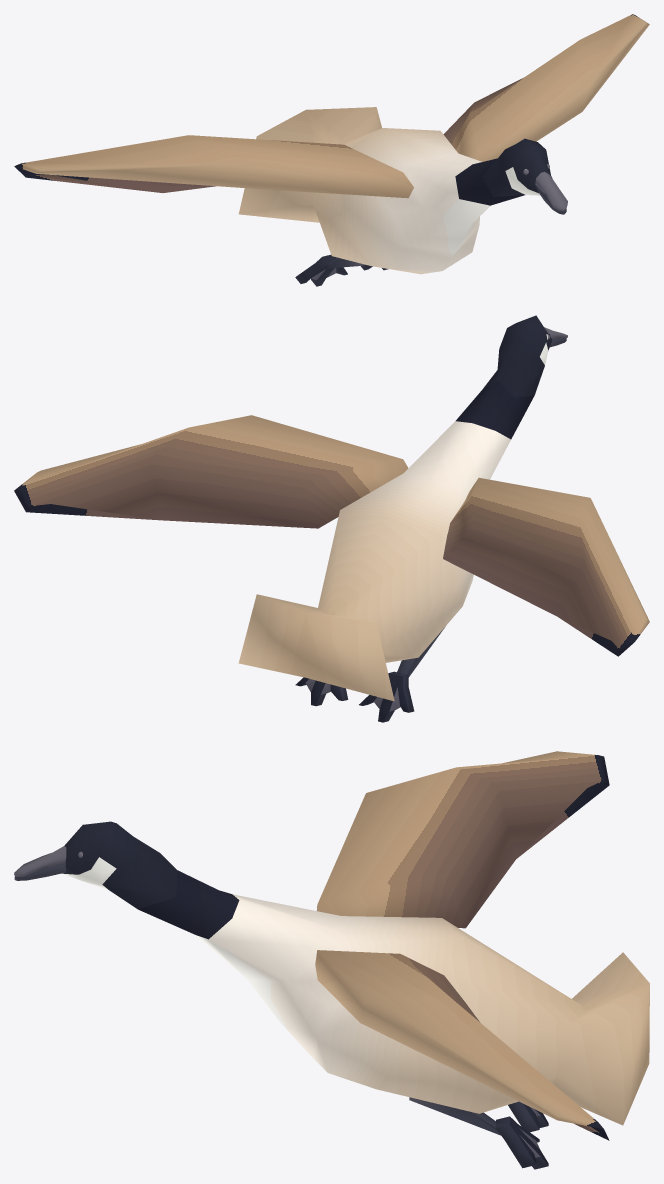
The model's file is 9goose.glb.
3 views of the same model, one above another, from view 1: azimuth 30°, elevation 25°; view 2: azimuth 150°, elevation 25°; view 3: azimuth 270°, elevation 25° (orthographic). The views are drawn at different scales.
Parts seen in each view (by area): view 1: Goose.Fly_0; view 2: Goose.Fly_0; view 3: Goose.Fly_0.
Boxes of the visible parts, x1=… form: Goose.Fly_0: x1=14, y1=14, x2=649, y2=286; Goose.Fly_0: x1=14, y1=315, x2=649, y2=722; Goose.Fly_0: x1=14, y1=751, x2=649, y2=1169.
Bounding box in the file's own units: 1.63 × 0.6644 × 1.17.
Materials: 1 (1 with a texture image).
